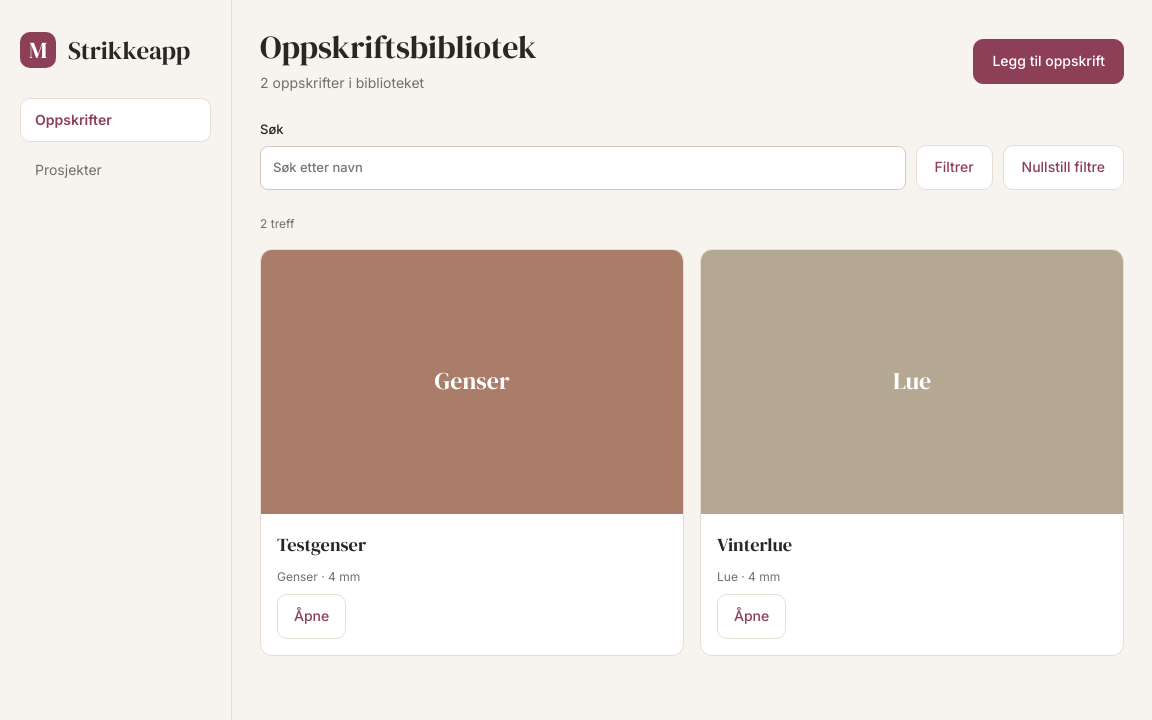
Scenario: App › combines and resets the existing recipe filters
This screenshot has width=1152, height=720.
Click the button "Filtrer".
click(954, 167)  # box [916,145,993,190]
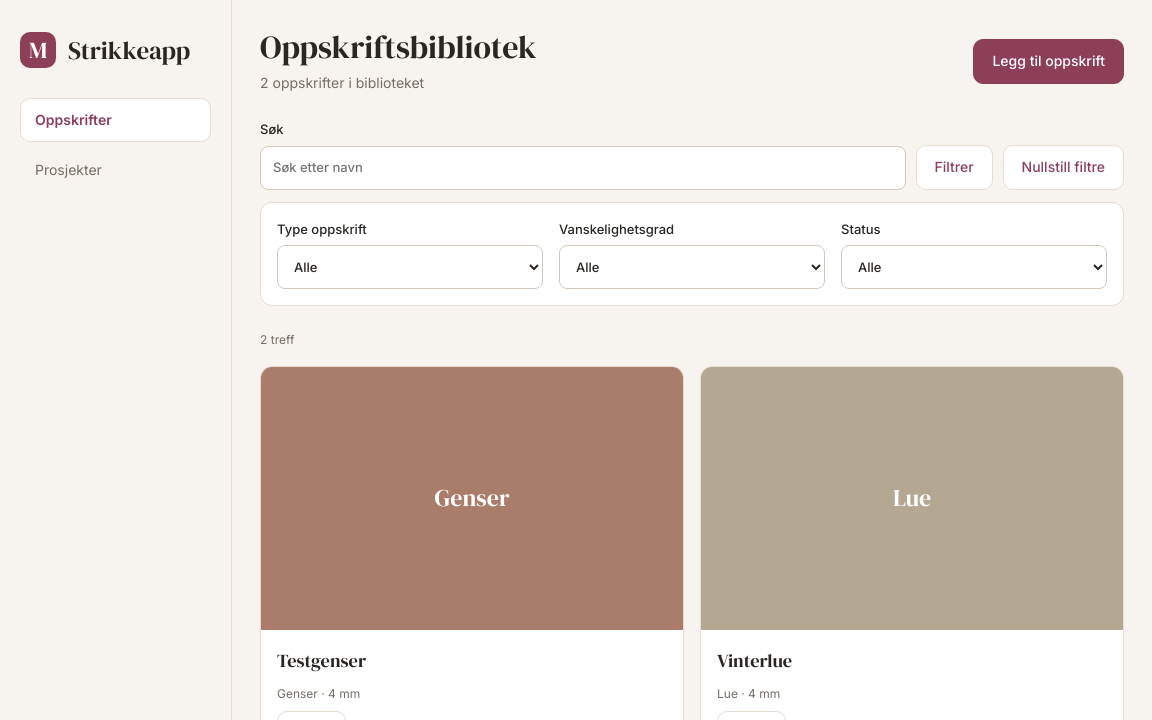
Select "Genser" in the dropdown labelled "Type oppskrift" at {"x": 410, "y": 267}, box [277,245,543,289]
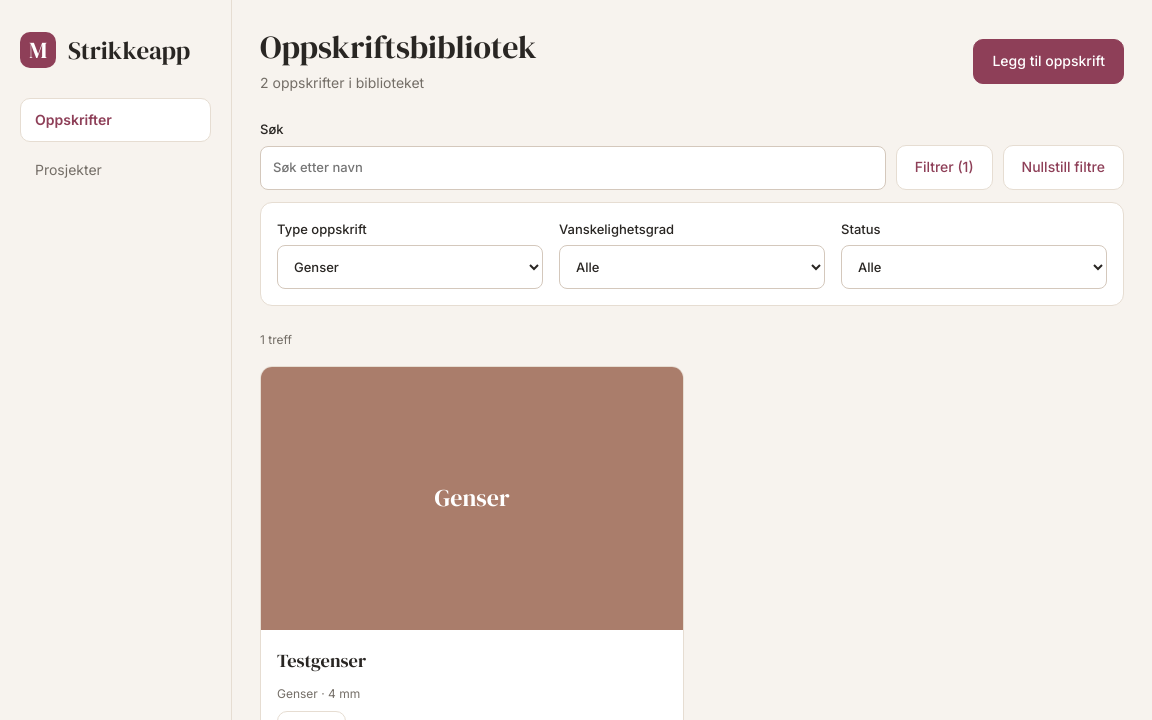
Select "Enkel" in the dropdown labelled "Vanskelighetsgrad" at {"x": 692, "y": 267}, box [559,245,825,289]
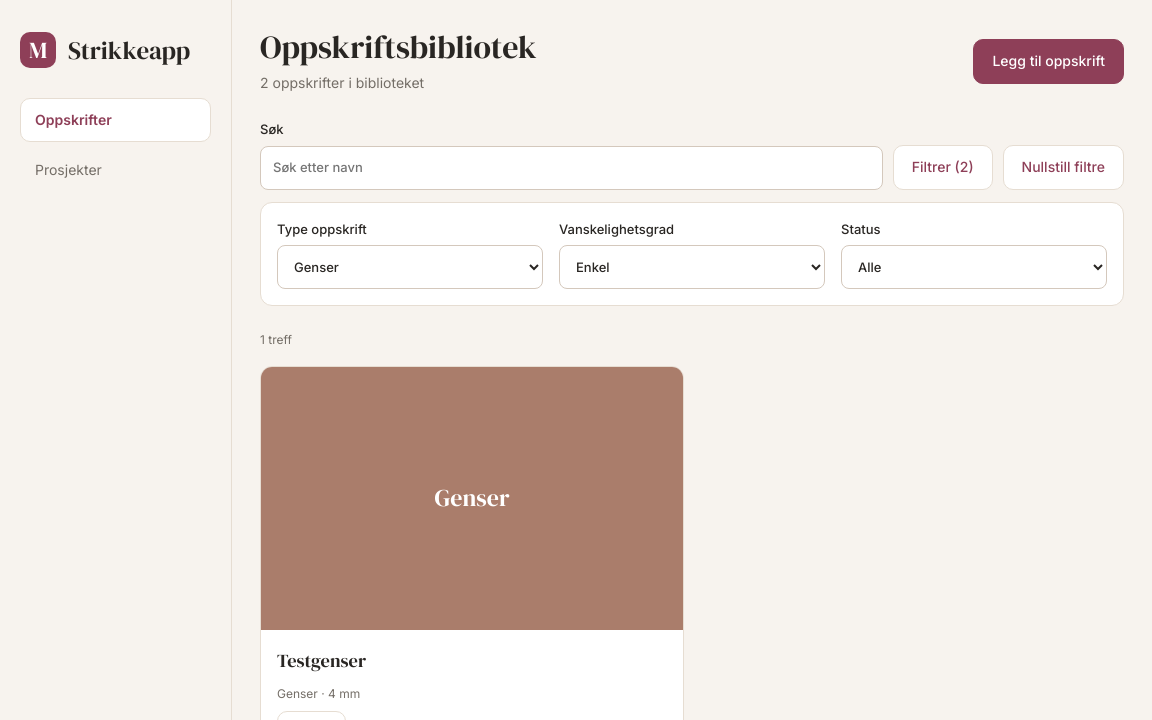
Expected: the heading "Testgenser" is shown, [277,648,366,673]
Expected: the heading "Vinterlue" is not shown
Click the button "Nullstill filtre".
click(1063, 167)  # box [1003,145,1124,190]
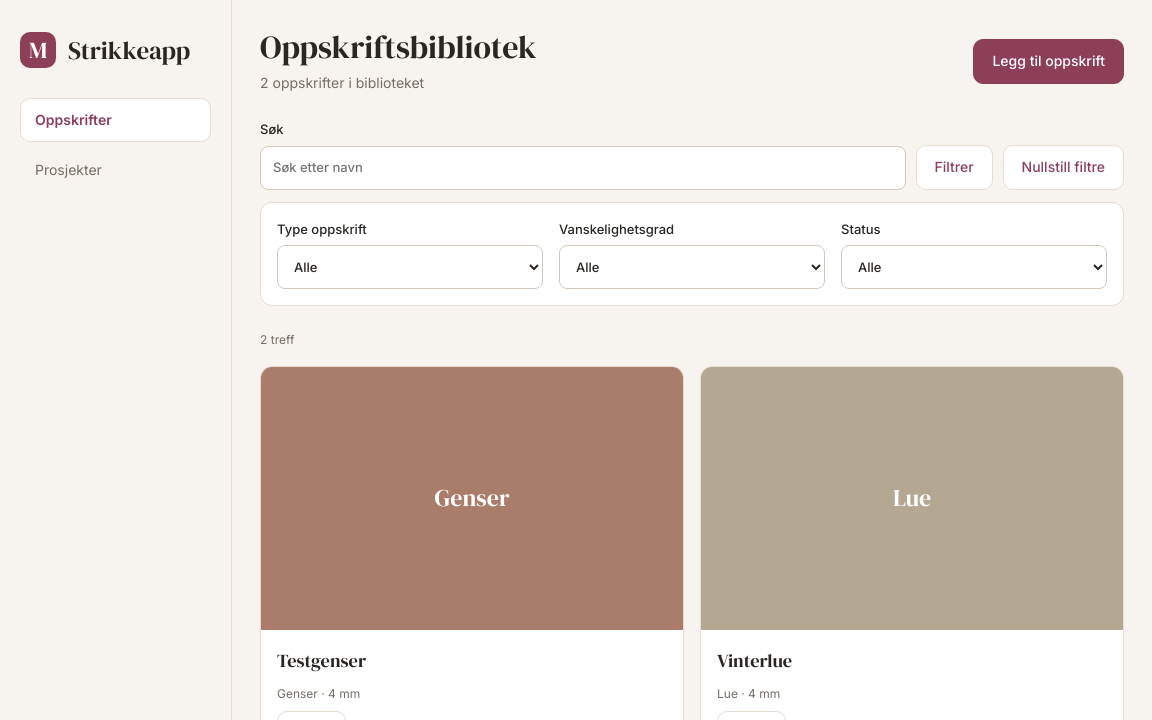
Expected: the heading "Vinterlue" is shown, [717,648,792,673]
